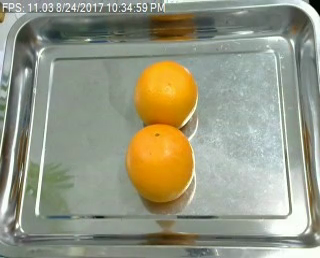Orange: (126, 124, 195, 202), (135, 60, 199, 130)
